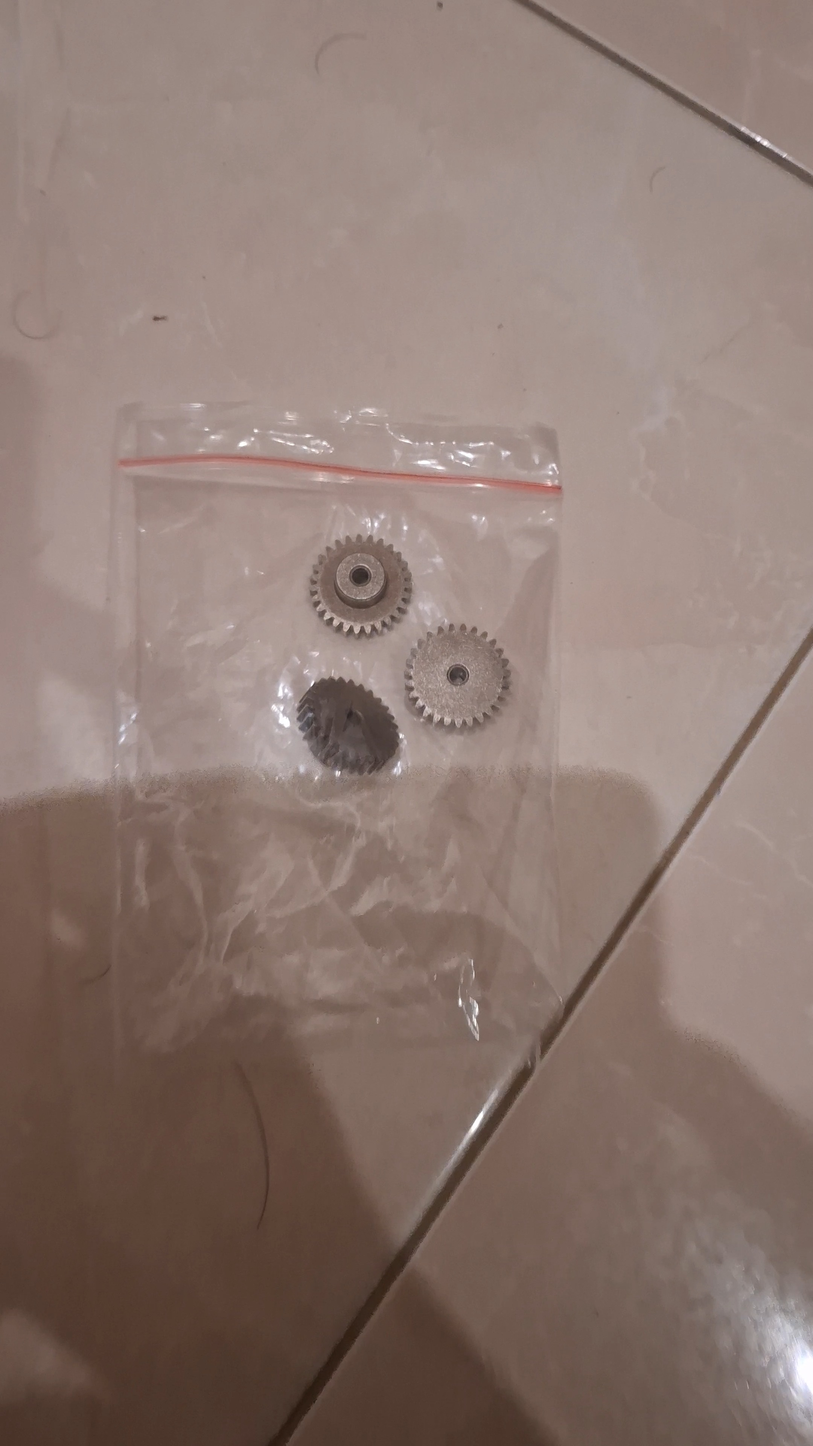spur gear: (401, 624, 513, 729), (306, 534, 413, 637), (294, 675, 401, 775)
